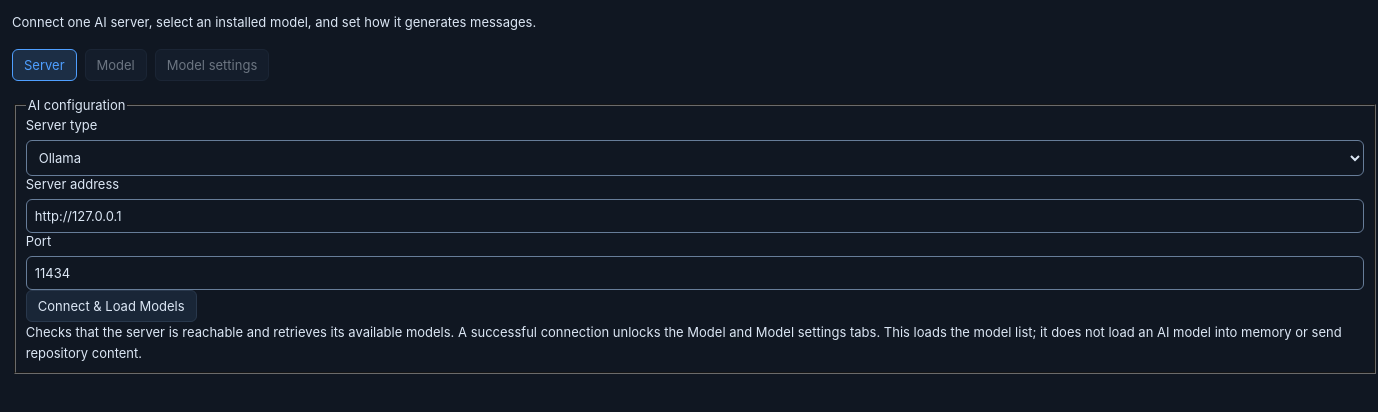
Test: invalidates discovered models after the server address changes
Expected: the field labelled "Server address" is shown, [26, 199, 1364, 233]
Step 1. Click the button "Connect & Load Models" → (111, 306), box [26, 290, 197, 322]
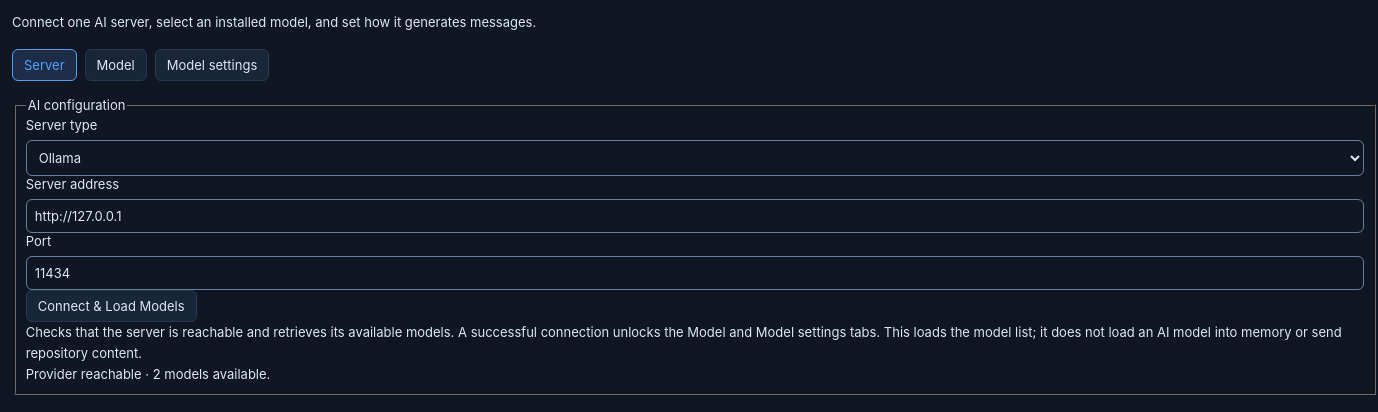
Result: the text "Provider reachable · 2 models available." is shown at [26, 366, 270, 382]
Step 2. Replace the text in the number field labelled "Port" with "11435" → (695, 273), box [26, 256, 1364, 290]
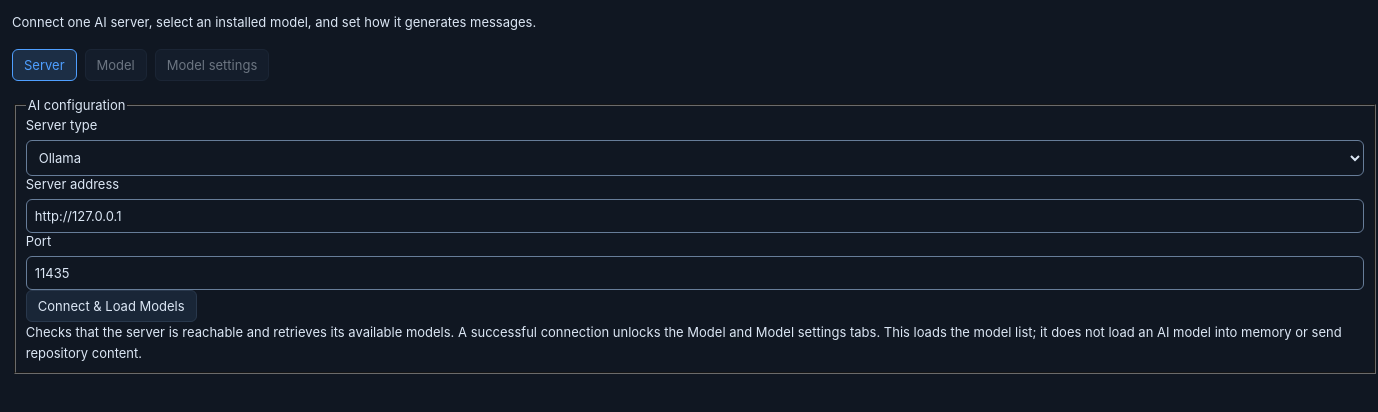
Step 3. Replace the text in the number field labelled "Port" with "70000" → (695, 273), box [26, 256, 1364, 290]
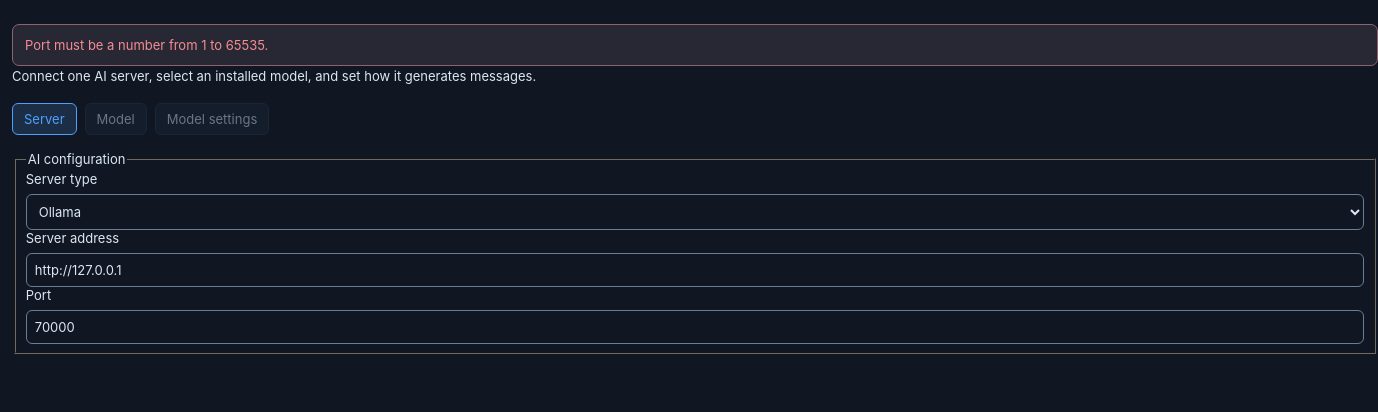
Result: the message shows "Port must be" at [25, 37, 268, 53]
